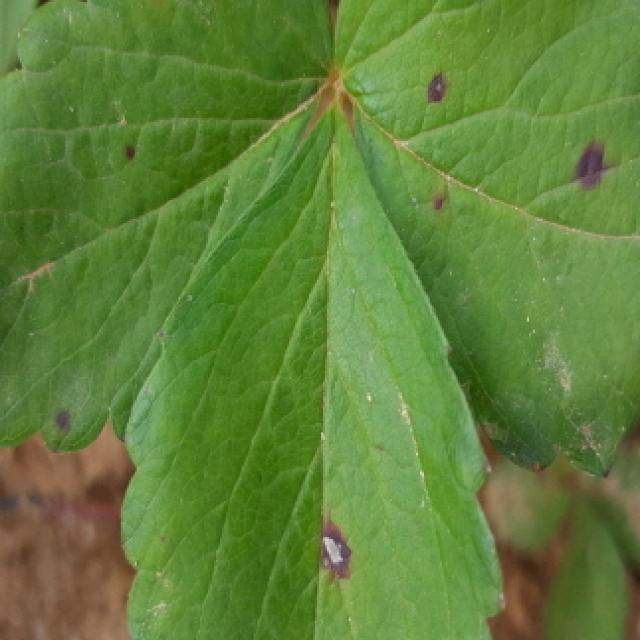Leaf Spot: (119, 97, 509, 640), (0, 0, 334, 454), (334, 0, 640, 481), (484, 445, 587, 564)
